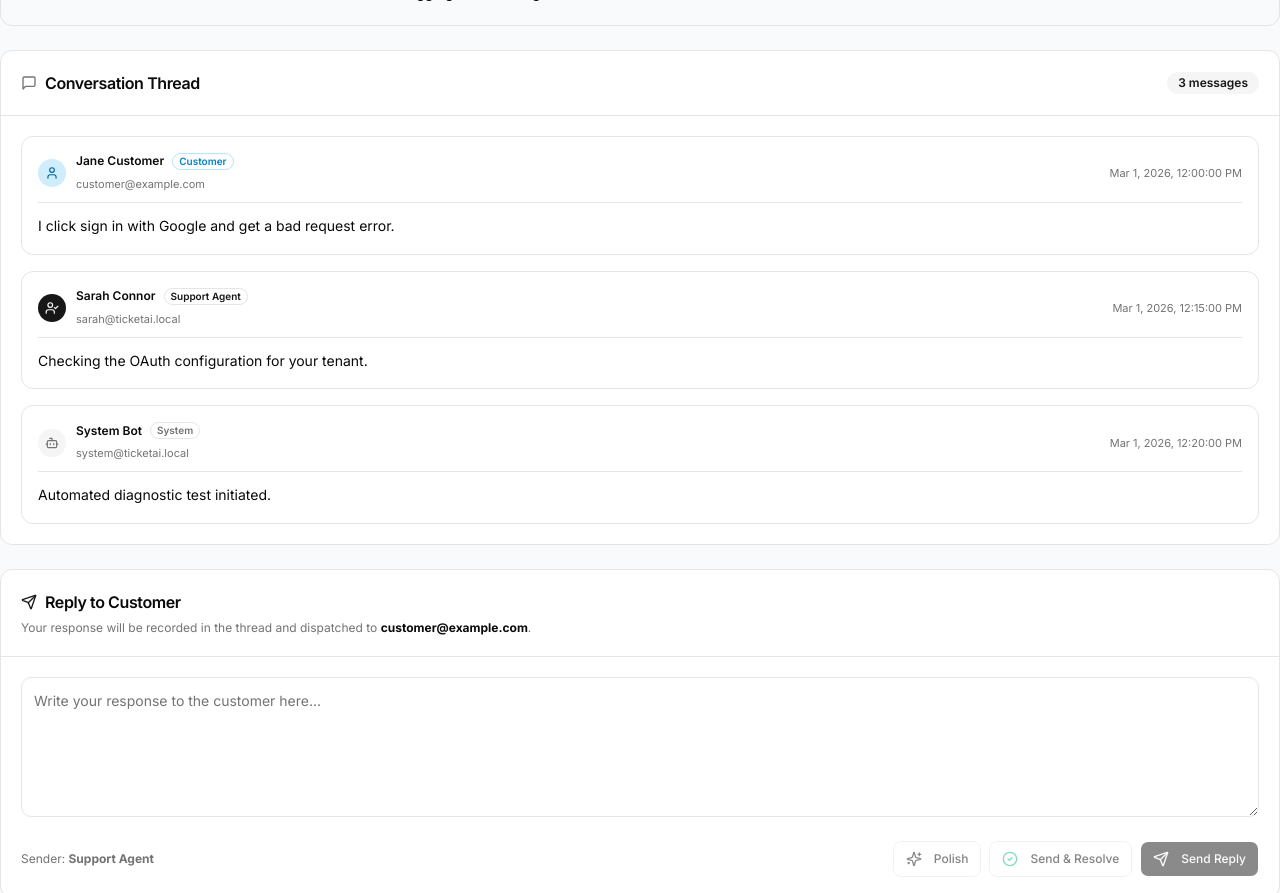
Test: ConversationThread Component Tests › 3. Reply Composer & Interactions › sends reply and resolves ticket when clicking "Send & Resolve"
The width and height of the screenshot is (1280, 893).
(page scrolled)
Type "Closing this issue as solved." into the text box with placeholder "Write your response to the customer here...".
click(640, 747); type("Closing this issue as solved.")  # box x1=21 y1=677 x2=1259 y2=817
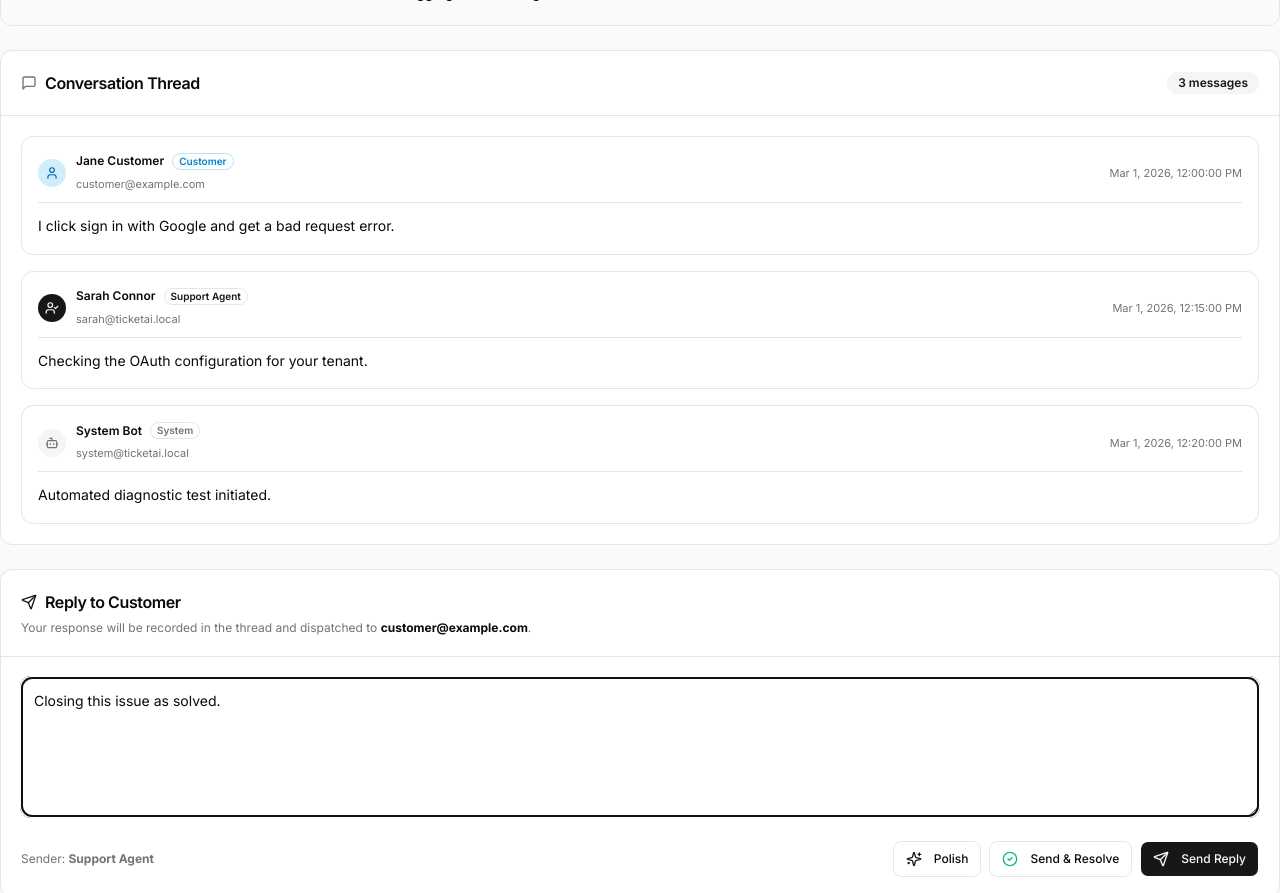
Click the button "Send & Resolve".
click(1061, 859)  # box x1=989 y1=841 x2=1132 y2=877
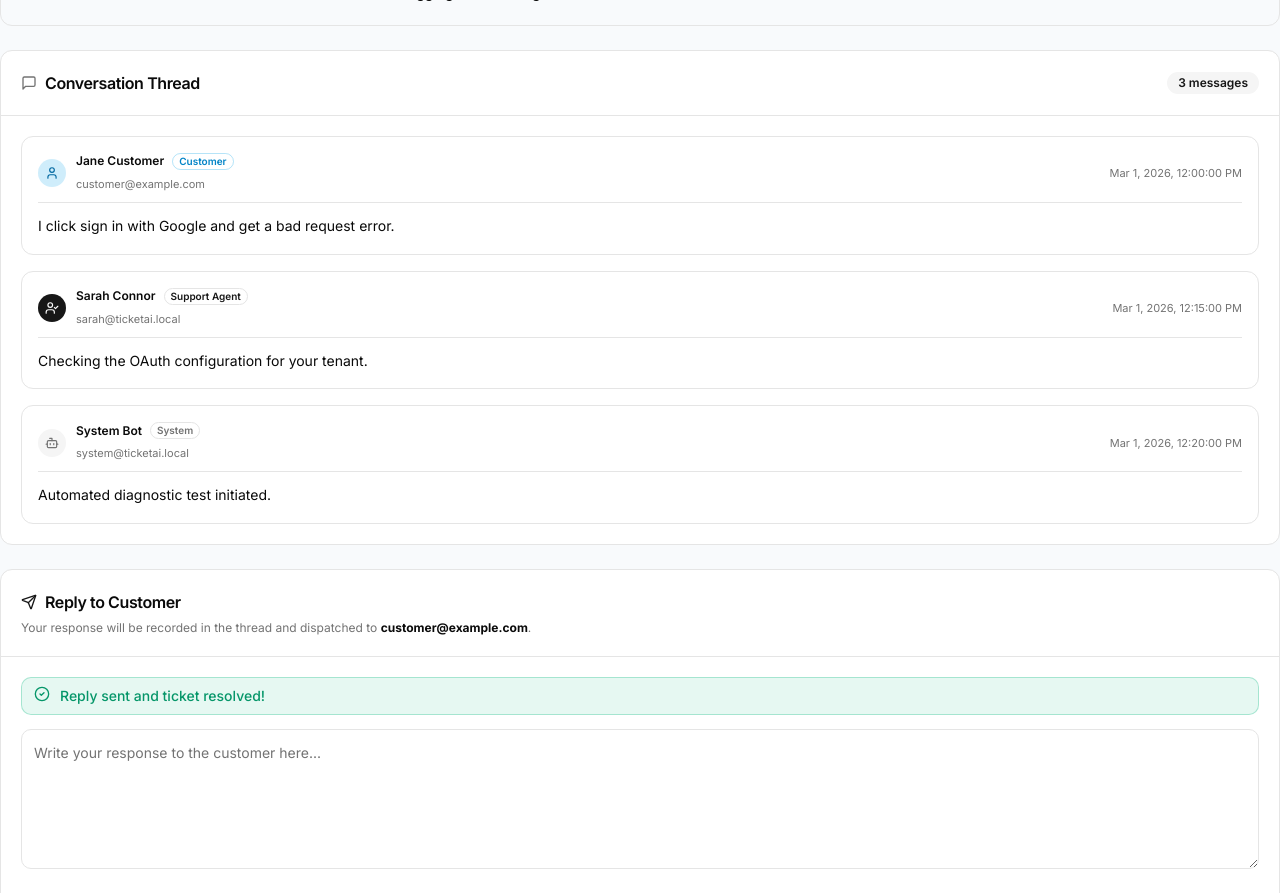
Check: the text "Reply sent and ticket resolved!" is shown, box x1=60 y1=687 x2=265 y2=704
